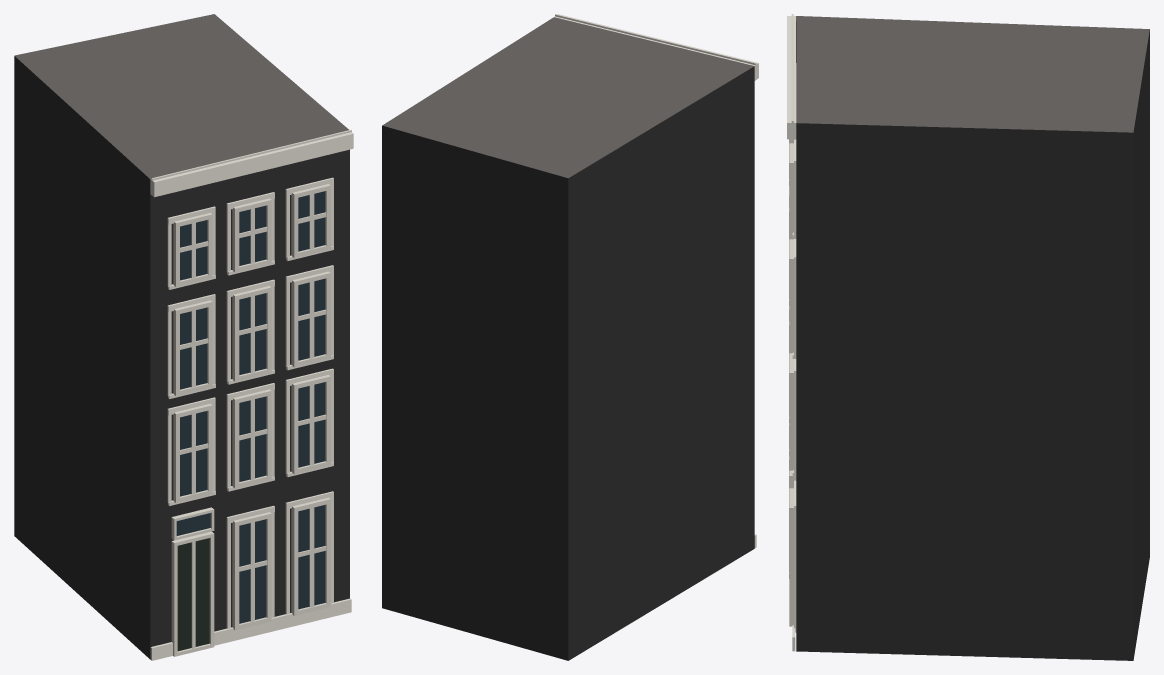
3 views of the same model, side by side, from view 1: azimuth 30°, elevation 25°; view 2: azimuth 150°, elevation 25°; view 3: azimuth 270°, elevation 25° (orthographic). The views are drawn at different scales.
Visible parts, largest first — view 1: spec-0363100012177515; view 2: spec-0363100012177515; view 3: spec-0363100012177515.
Part boxes in pixels (x1=…): spec-0363100012177515: x1=14, y1=14, x2=353, y2=660; spec-0363100012177515: x1=382, y1=14, x2=758, y2=660; spec-0363100012177515: x1=787, y1=14, x2=1149, y2=660.
Bounding box in the file's own units: 5.33 × 11.28 × 7.
